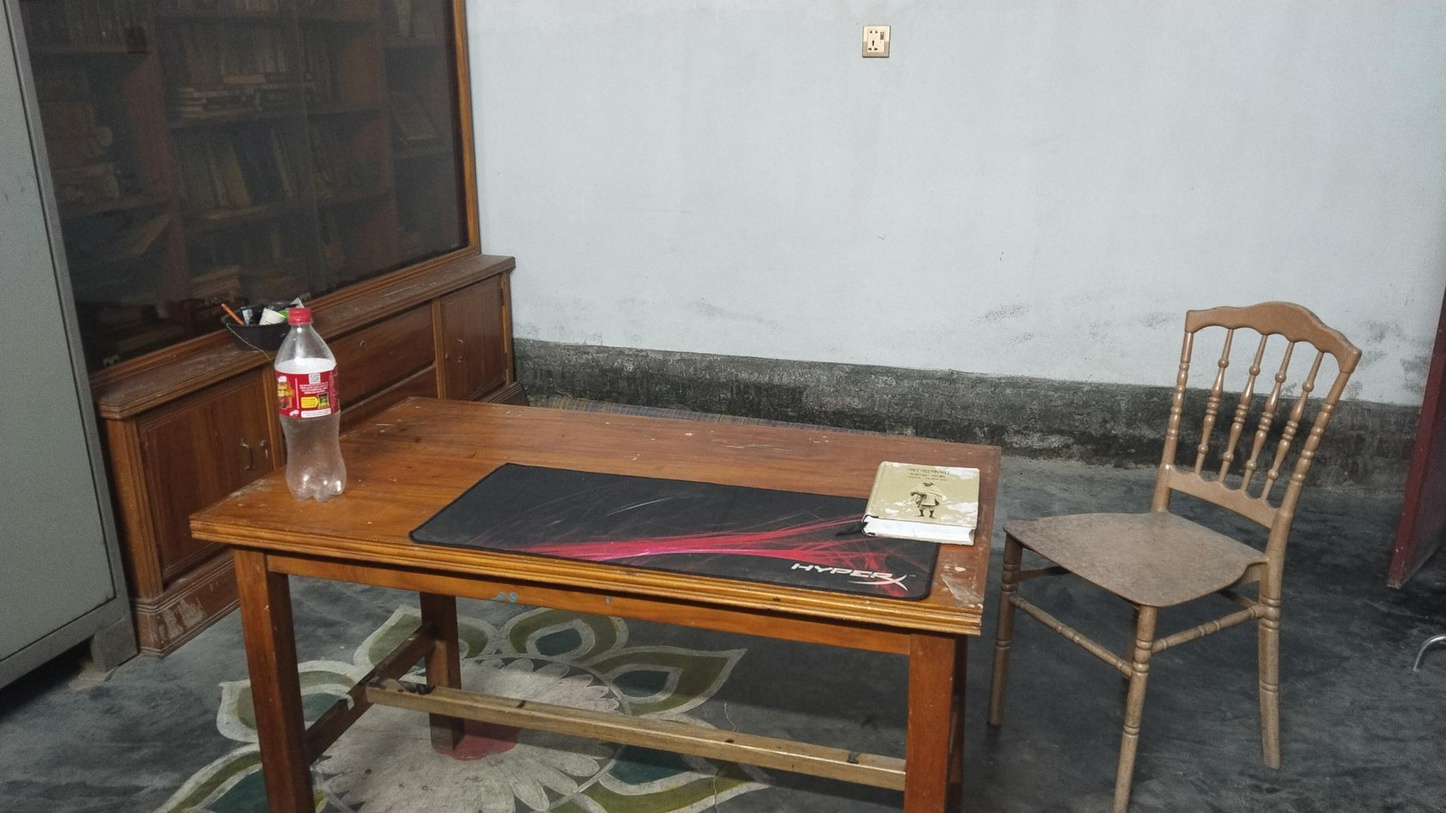Book: (860, 452, 983, 550)
Bottle: (262, 308, 352, 505)
Chair: (1003, 295, 1364, 807)
Table: (206, 393, 995, 813)
